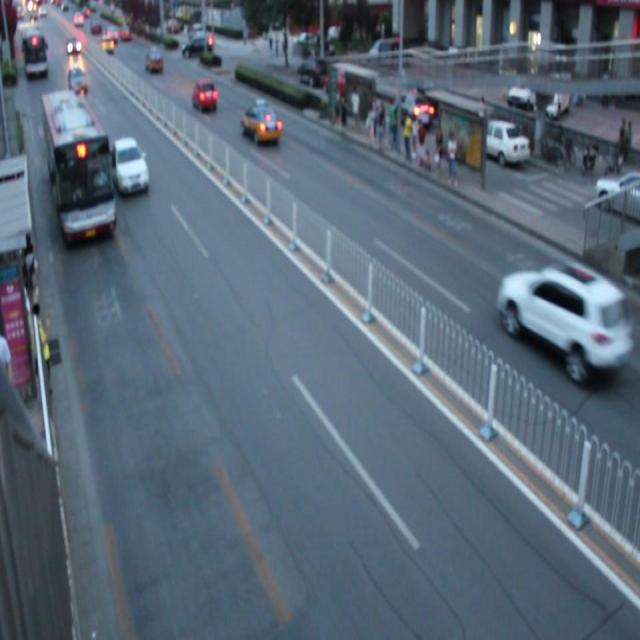car: (498, 261, 618, 384), (112, 138, 151, 196), (241, 99, 281, 148), (191, 78, 217, 114)
van: (40, 92, 115, 241)
